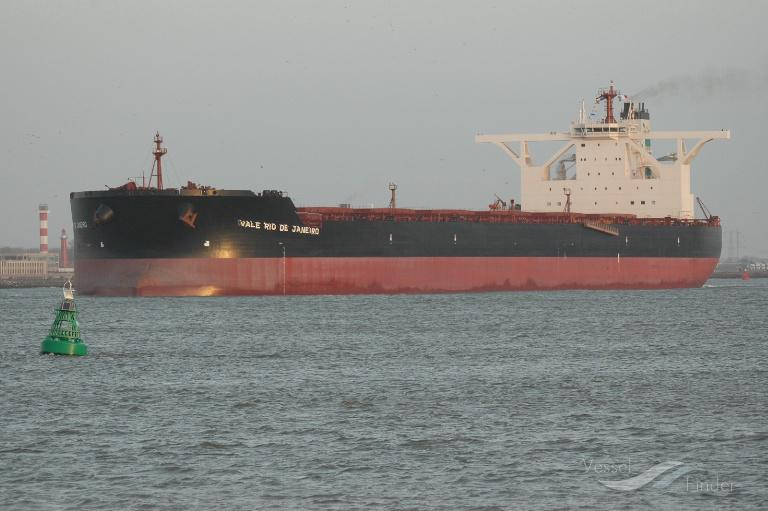OCR: (234, 206, 322, 239)
